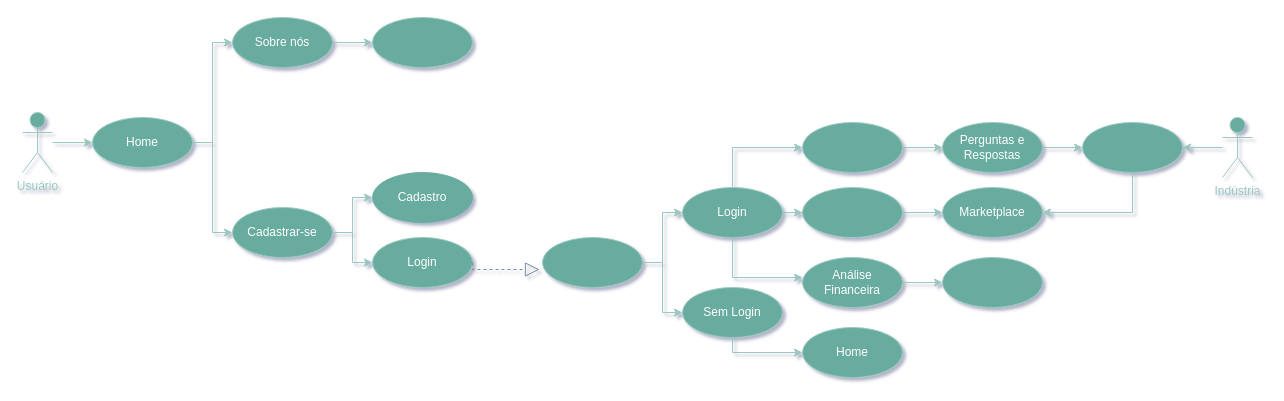
This 1284x401 diagram has some shape labels left out. Here are the shapes that lost their labels. From the top down, the box of each, then its label:
(372, 16, 472, 68): Informações
(802, 122, 902, 172): Pesquisa do Solo
(1082, 122, 1182, 172): Anáise e Indicação
(802, 186, 902, 238): Compras de Insumos
(542, 236, 642, 288): Verificar Usuário/Senha
(942, 256, 1042, 308): Custos e Saldo
